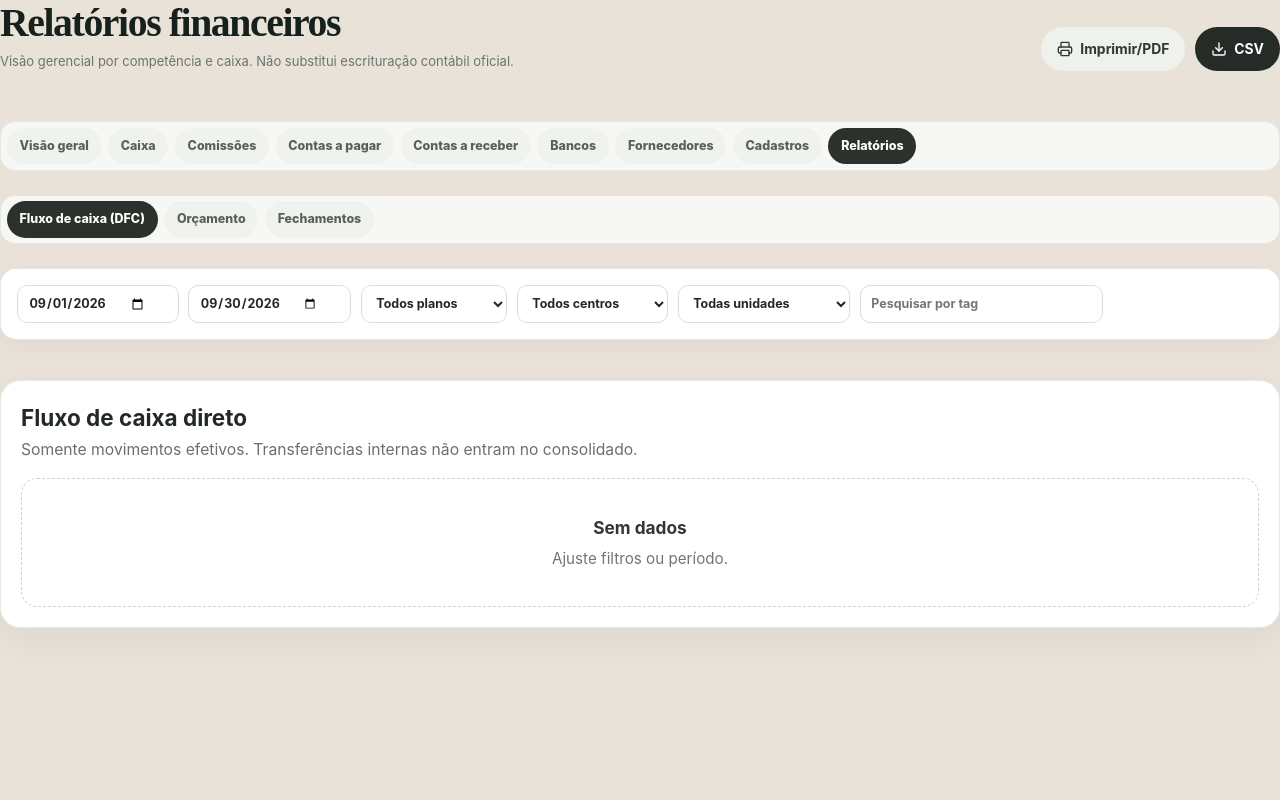
Test: manager commissions › shows closure history ordered by id, filters by professional, and expands launches
The width and height of the screenshot is (1280, 800).
Click the button "Fechamentos" at (319,219), box [265,201,374,238]
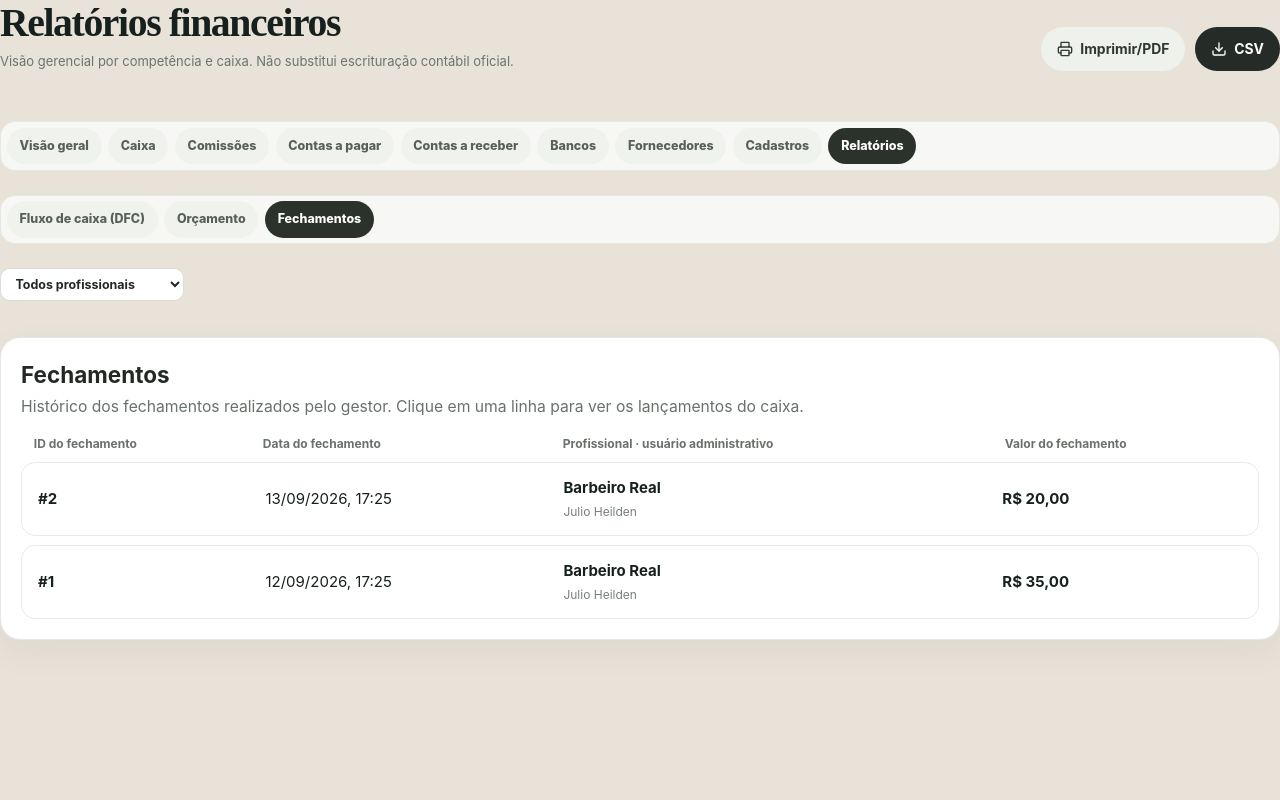
expect the table named "Fechamentos realizados" is shown: met, box [21,435,1259,619]
expect the element showing "#2 13/09/2026, 17:25 Barbeiro Real Julio Heilden R$ 20,00" is shown: met, box [21,462,1259,536]
expect the element showing "#1 12/09/2026, 17:25 Barbeiro Real Julio Heilden R$ 35,00" is shown: met, box [21,545,1259,620]
Select "Barbeiro Real" in the dropdown named "Profissional do fechamento" at (92,284), box [0,268,184,301]
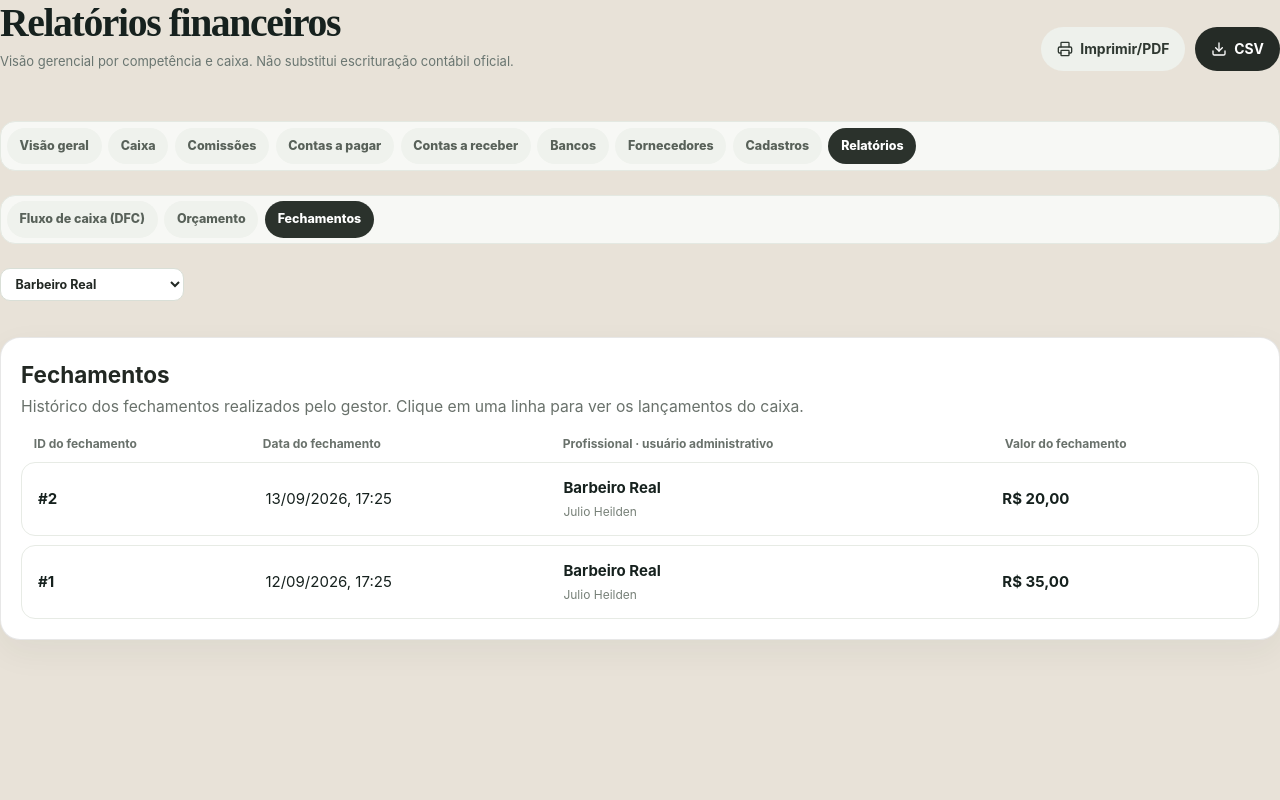
Click the text "#2" at (48,498), box [38,489,57,508]
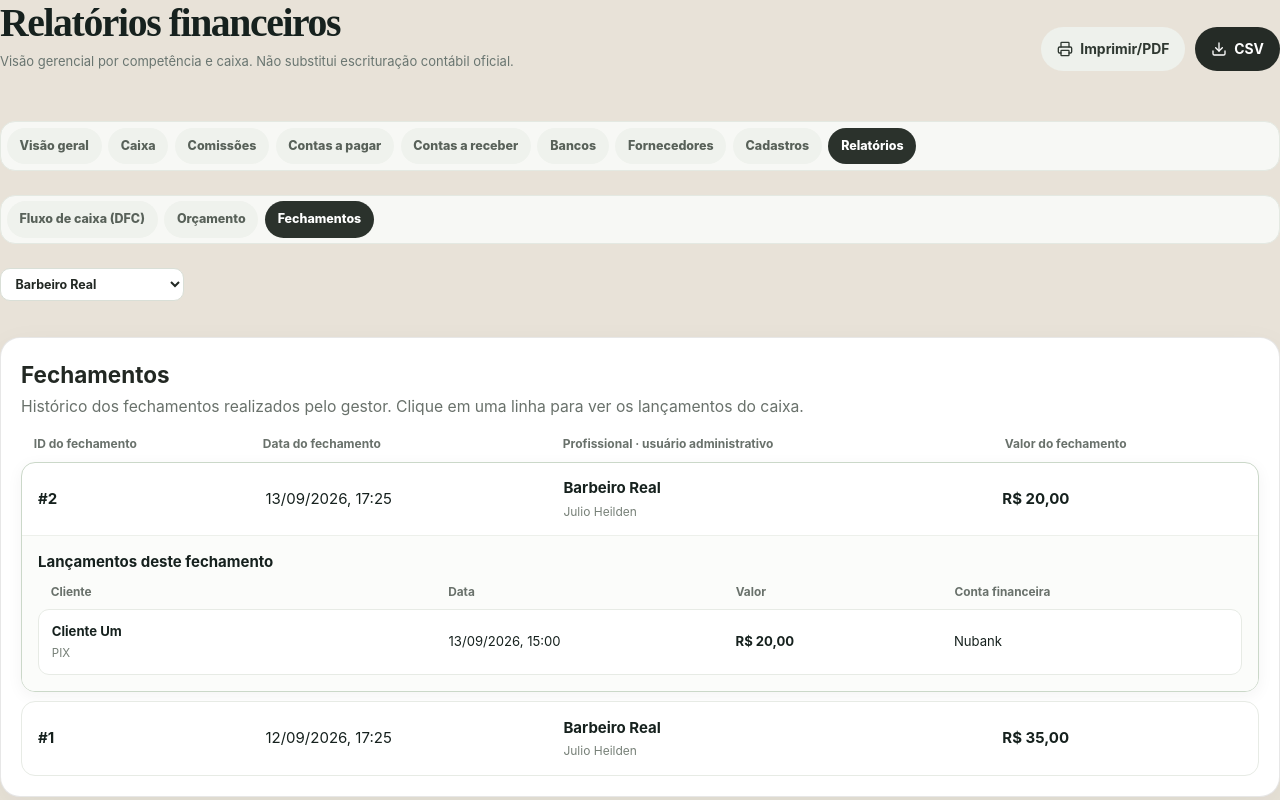
expect the table named "Lançamentos do fechamento 2" is shown: met, box [38,584,1242,675]
expect the text "Cliente Um" is shown: met, box [52,623,122,639]
expect the text "Julio Heilden" is shown 2 times: met, box [563,504,637,519]; [563,743,637,758]
